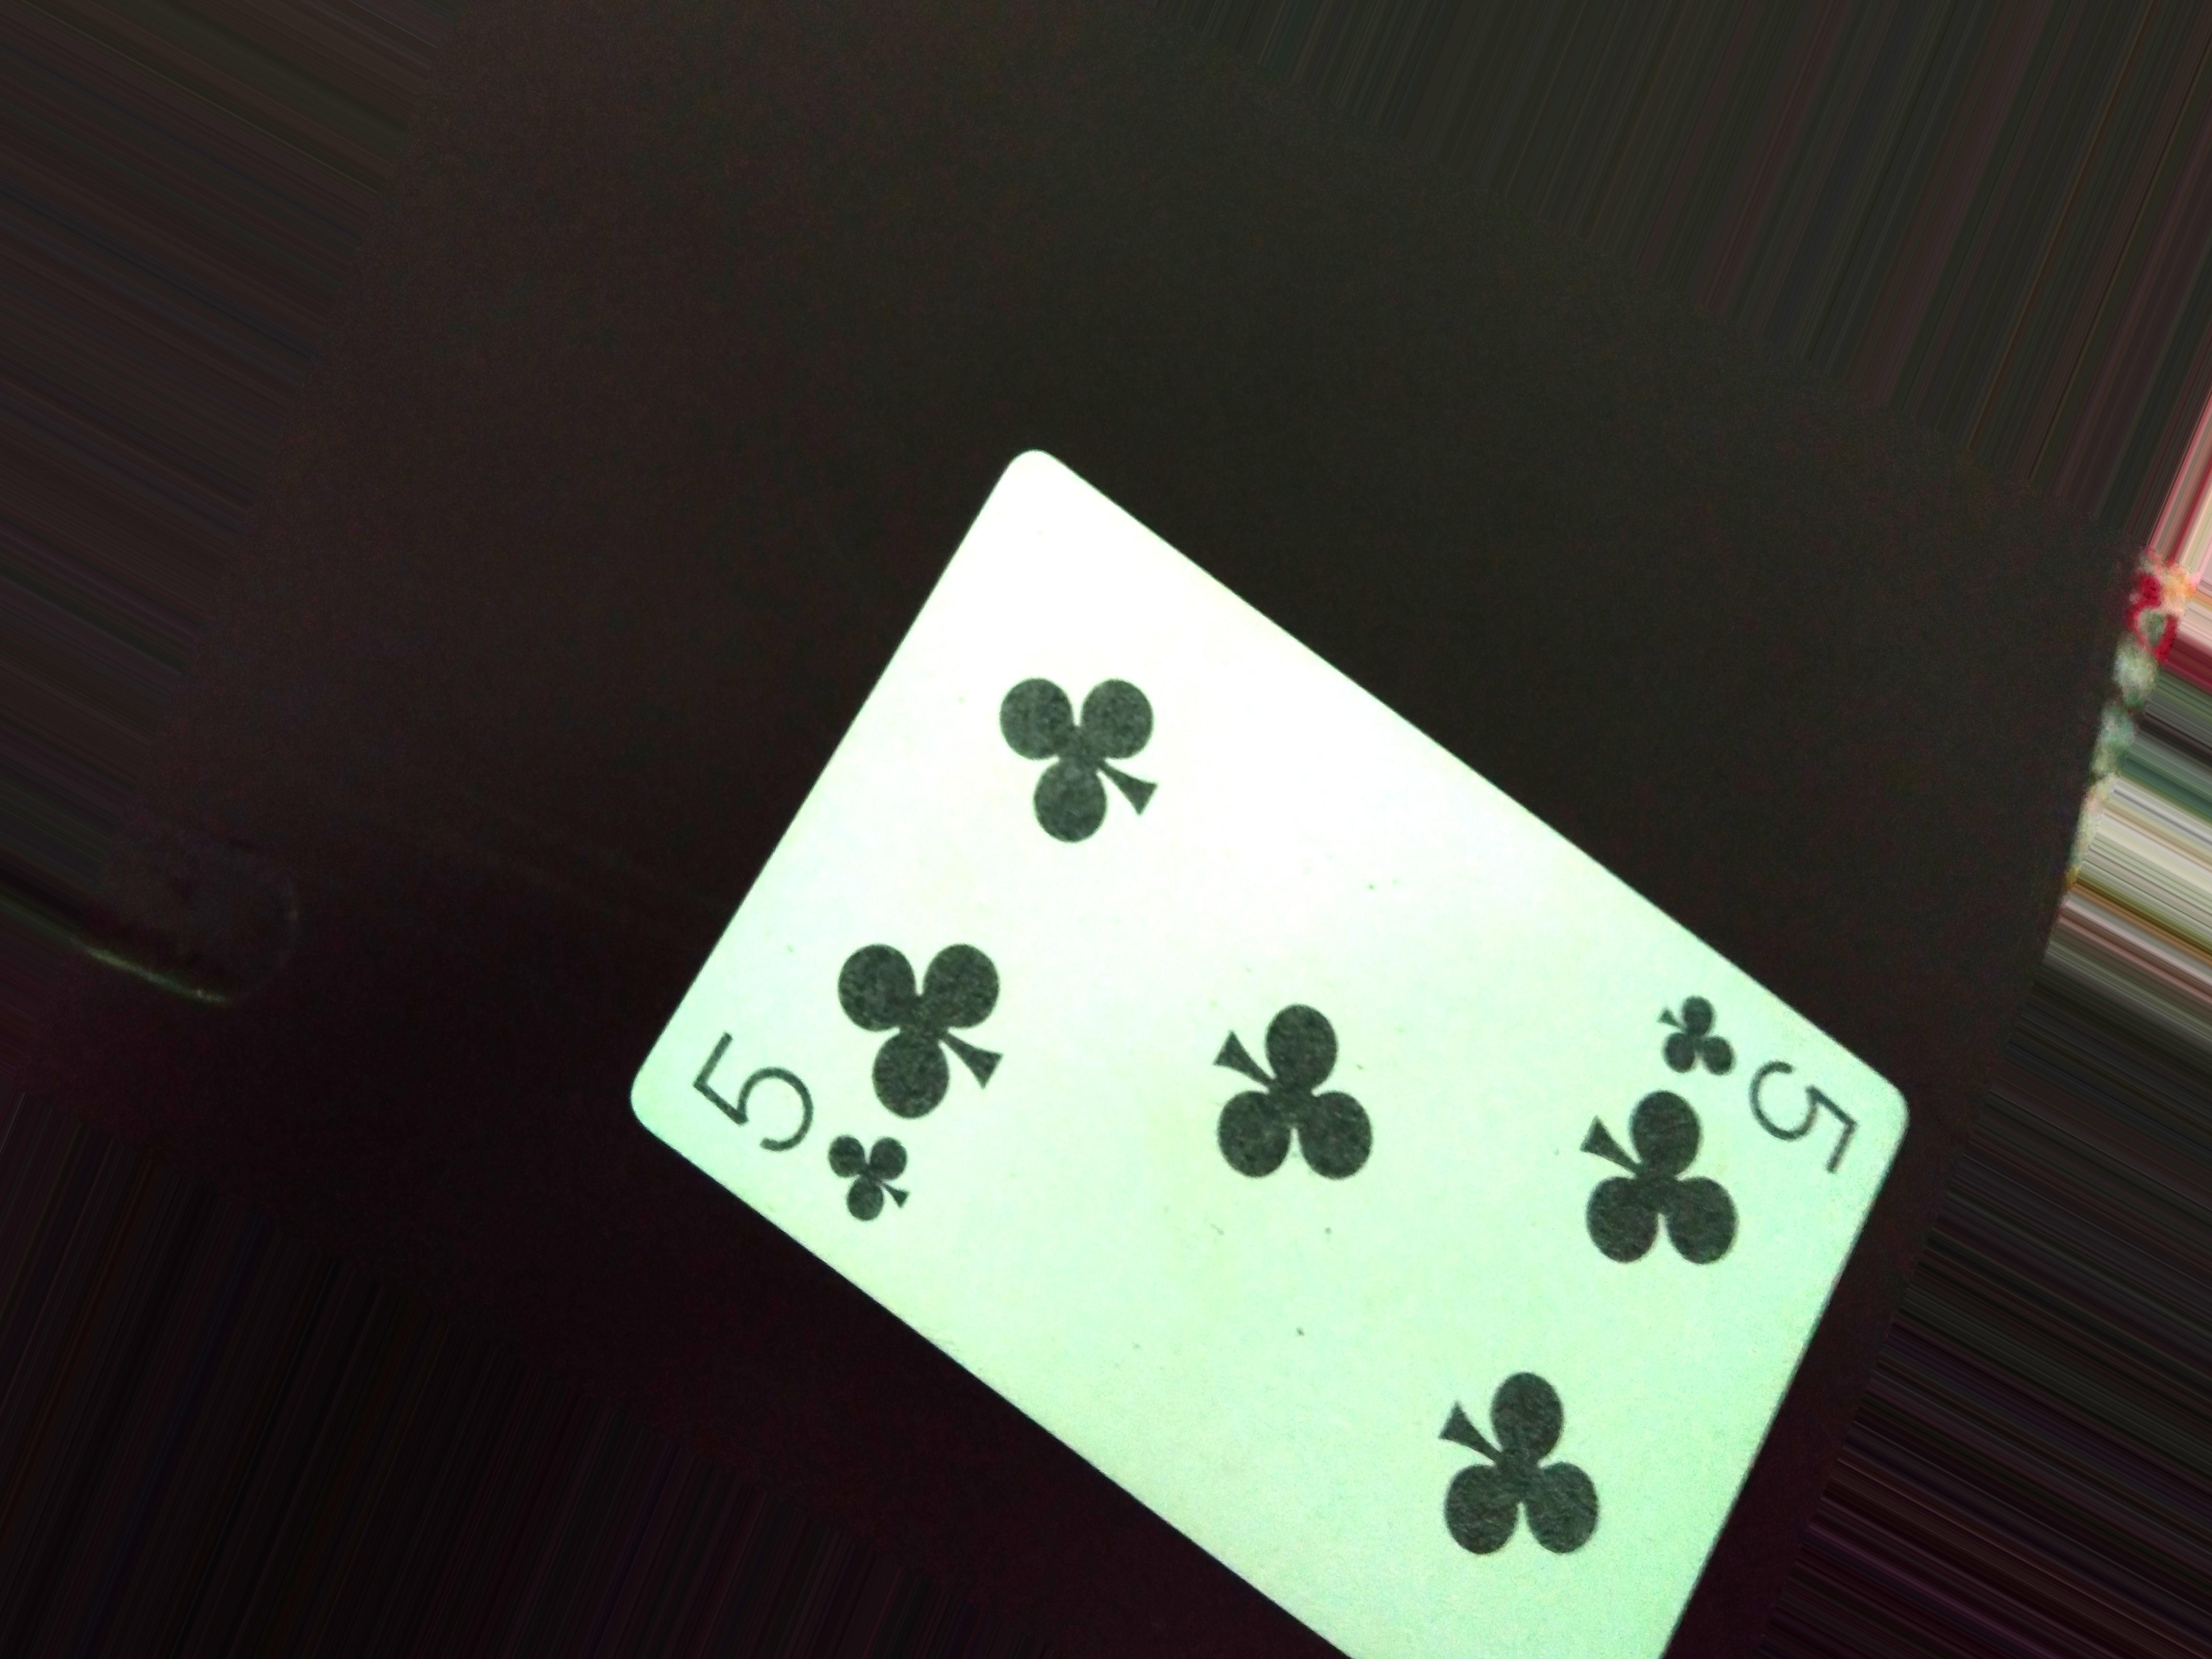5C: (1641, 985, 1881, 1190)
